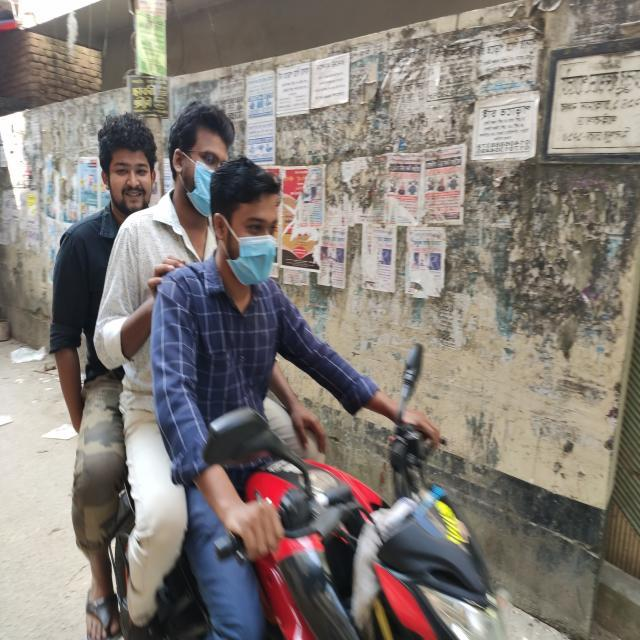Overloading: (87, 101, 466, 620)
